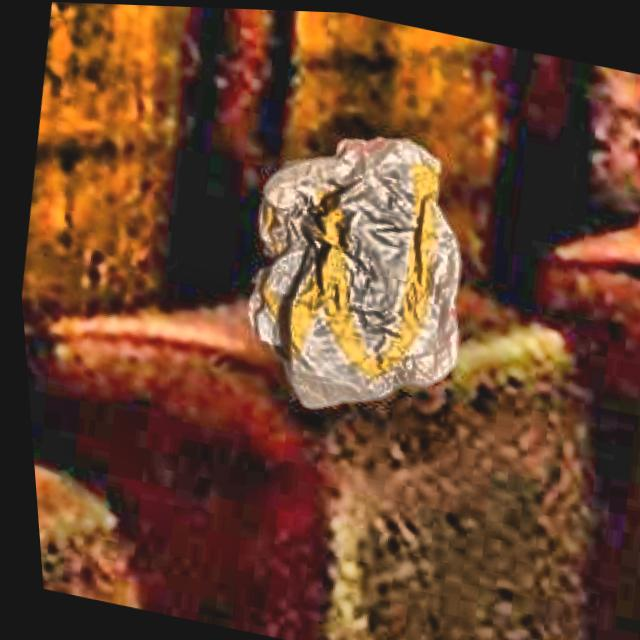Paper-bag: (208, 102, 512, 449)
